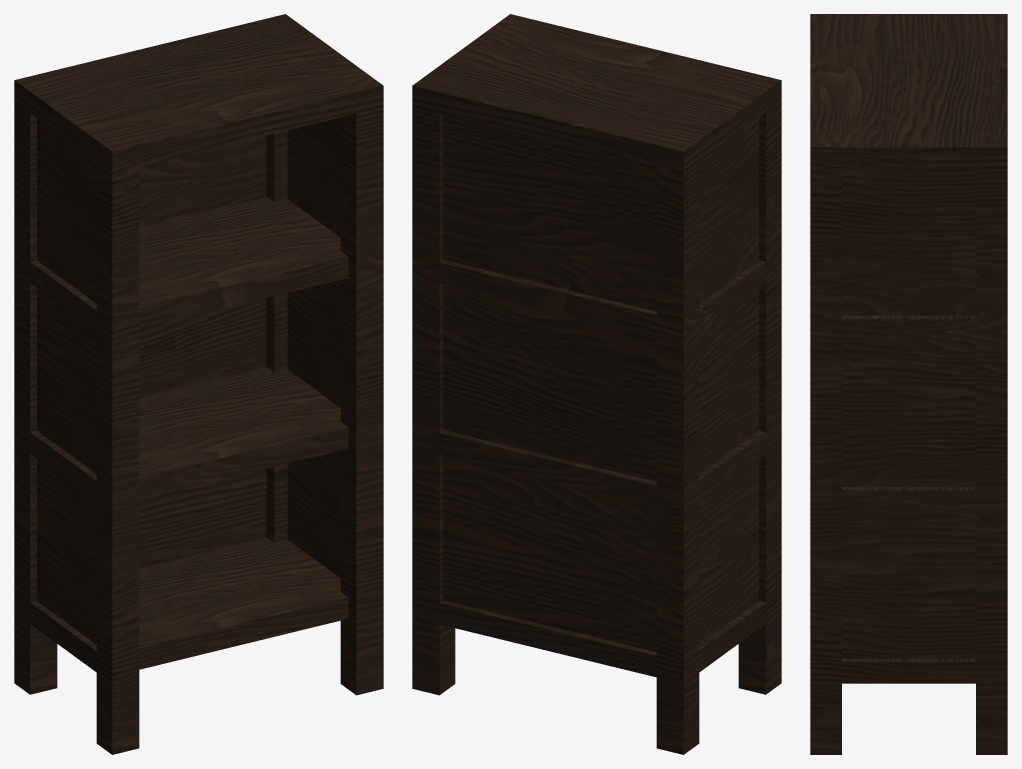
Rendered from bookcaseClosed.glb.
3 views of the same model, side by side, from view 1: azimuth 30°, elevation 25°; view 2: azimuth 150°, elevation 25°; view 3: azimuth 270°, elevation 25° (orthographic).
Visible parts, largest first — view 1: bookcaseClosed(Clone); view 2: bookcaseClosed(Clone); view 3: bookcaseClosed(Clone).
Part boxes in pixels (x1,y1,x2,y2): bookcaseClosed(Clone): [14, 14, 383, 754]; bookcaseClosed(Clone): [412, 14, 781, 754]; bookcaseClosed(Clone): [810, 14, 1007, 754].
Size of the model in its own units: 0.4 by 0.85 by 0.25.
1 material, 1 textured.
